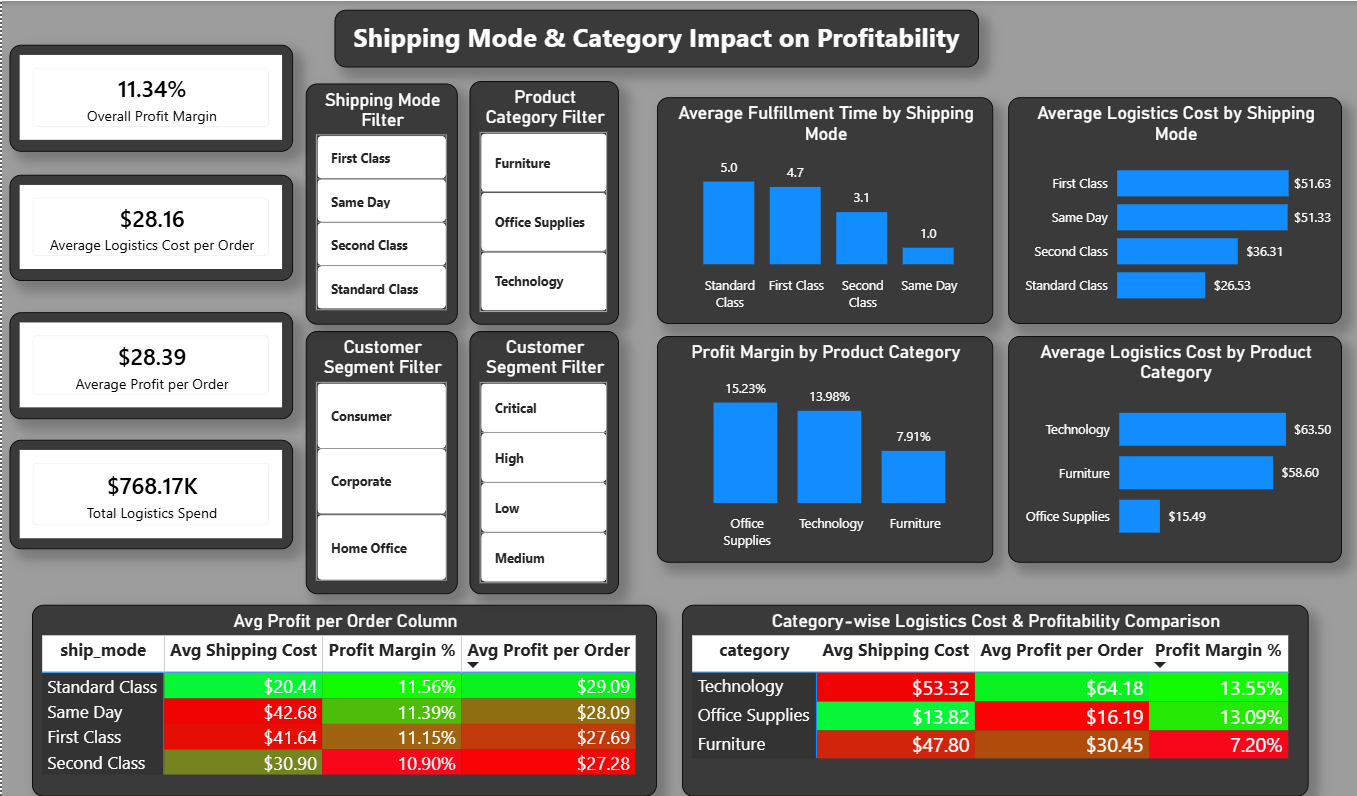

The page's visual inventory and layout, read from the dashboard file:
{"tool":"powerbi","page":{"name":"Shipping Mode & Category Impact on Profitability","canvas":[1280,750],"ordinal":1},"visuals":[{"type":"cardVisual","fields":{"Data":["ops_analysis orders.Profit Margin %"]},"box":[7.3,41.3,267.2,100.8],"z":0},{"type":"cardVisual","fields":{"Data":["ops_analysis orders.Avg Shipping Cost"]},"box":[7.3,164,267.2,99.6],"z":1000},{"type":"cardVisual","fields":{"Data":["Avg(ops_analysis orders.profit)"]},"box":[7.3,292.7,267.2,100.8],"z":2000},{"type":"cardVisual","fields":{"Data":["ops_analysis orders.Total Shipping Cost"]},"box":[7.3,413,267.2,103.2],"z":3000},{"type":"clusteredColumnChart","title":"Average Fulfillment Time by Shipping Mode","fields":{"Category":["ops_analysis orders.ship_mode"],"Y":["ops_analysis orders.Avg Shipping Days (Mode Safe)"]},"box":[617,91.1,317,213.8],"z":4000},{"type":"textbox","box":[313.4,8.5,607.3,54.7],"z":5000},{"type":"clusteredBarChart","title":"Average Logistics Cost by Shipping Mode","fields":{"Category":["ops_analysis orders.ship_mode"],"Y":["ops_analysis orders.Avg Shipping Cost"]},"box":[948.6,91.1,314.6,213.8],"z":6000},{"type":"clusteredColumnChart","title":"Profit Margin by Product Category","fields":{"Category":["dim_category.category"],"Y":["ops_analysis orders.Profit Margin %"]},"box":[617,315.8,317,213.8],"z":7000},{"type":"clusteredBarChart","title":"Average Logistics Cost by Product Category","fields":{"Category":["dim_category.category"],"Y":["ops_analysis orders.Avg Shipping Cost"]},"box":[948.6,315.8,314.6,213.8],"z":8000},{"type":"pivotTable","title":"Category-wise Logistics Cost & Profitability Comparison","fields":{"Rows":["dim_category.category"],"Values":["ops_analysis orders.Avg Shipping Cost","ops_analysis orders.Avg Profit per Order","ops_analysis orders.Profit Margin %"]},"box":[640.1,568.5,590.3,181],"z":9000},{"type":"pivotTable","title":"Avg Profit per Order Column","fields":{"Rows":["ops_analysis orders.ship_mode"],"Values":["ops_analysis orders.Avg Shipping Cost","ops_analysis orders.Profit Margin %","ops_analysis orders.Avg Profit per Order"]},"box":[27.9,568.5,589.1,181],"z":9001},{"type":"advancedSlicerVisual","title":"Product Category Filter","fields":{"Values":["dim_category.category"]},"box":[440.9,75.3,140.9,229.6],"z":9002},{"type":"advancedSlicerVisual","title":"Shipping Mode Filter","fields":{"Values":["ops_analysis orders.ship_mode"]},"box":[286.7,77.7,143.3,227.1],"z":9003},{"type":"advancedSlicerVisual","title":"Customer Segment Filter","fields":{"Values":["ops_analysis orders.segment"]},"box":[286.7,311,143.3,247.8],"z":9004},{"type":"advancedSlicerVisual","title":"Customer Segment Filter","fields":{"Values":["ops_analysis orders.order_priority"]},"box":[440.9,311,140.9,247.8],"z":9005}]}

Visuals, with their boxes in screenshot pixels (x1, y1, x2, y2), scaled from the page's 1280x750 canvas onto the 1357x796 screenshot:
cardVisual - ops_analysis orders.Profit Margin %: (8,44,291,151)
cardVisual - ops_analysis orders.Avg Shipping Cost: (8,174,291,280)
cardVisual - Avg(ops_analysis orders.profit): (8,311,291,418)
cardVisual - ops_analysis orders.Total Shipping Cost: (8,438,291,548)
"Average Fulfillment Time by Shipping Mode" clusteredColumnChart: (654,97,990,324)
textbox: (332,9,976,67)
"Average Logistics Cost by Shipping Mode" clusteredBarChart: (1006,97,1339,324)
"Profit Margin by Product Category" clusteredColumnChart: (654,335,990,562)
"Average Logistics Cost by Product Category" clusteredBarChart: (1006,335,1339,562)
"Category-wise Logistics Cost & Profitability Comparison" pivotTable: (679,603,1304,795)
"Avg Profit per Order Column" pivotTable: (30,603,654,795)
"Product Category Filter" advancedSlicerVisual: (467,80,617,324)
"Shipping Mode Filter" advancedSlicerVisual: (304,82,456,323)
"Customer Segment Filter" advancedSlicerVisual: (304,330,456,593)
"Customer Segment Filter" advancedSlicerVisual: (467,330,617,593)
